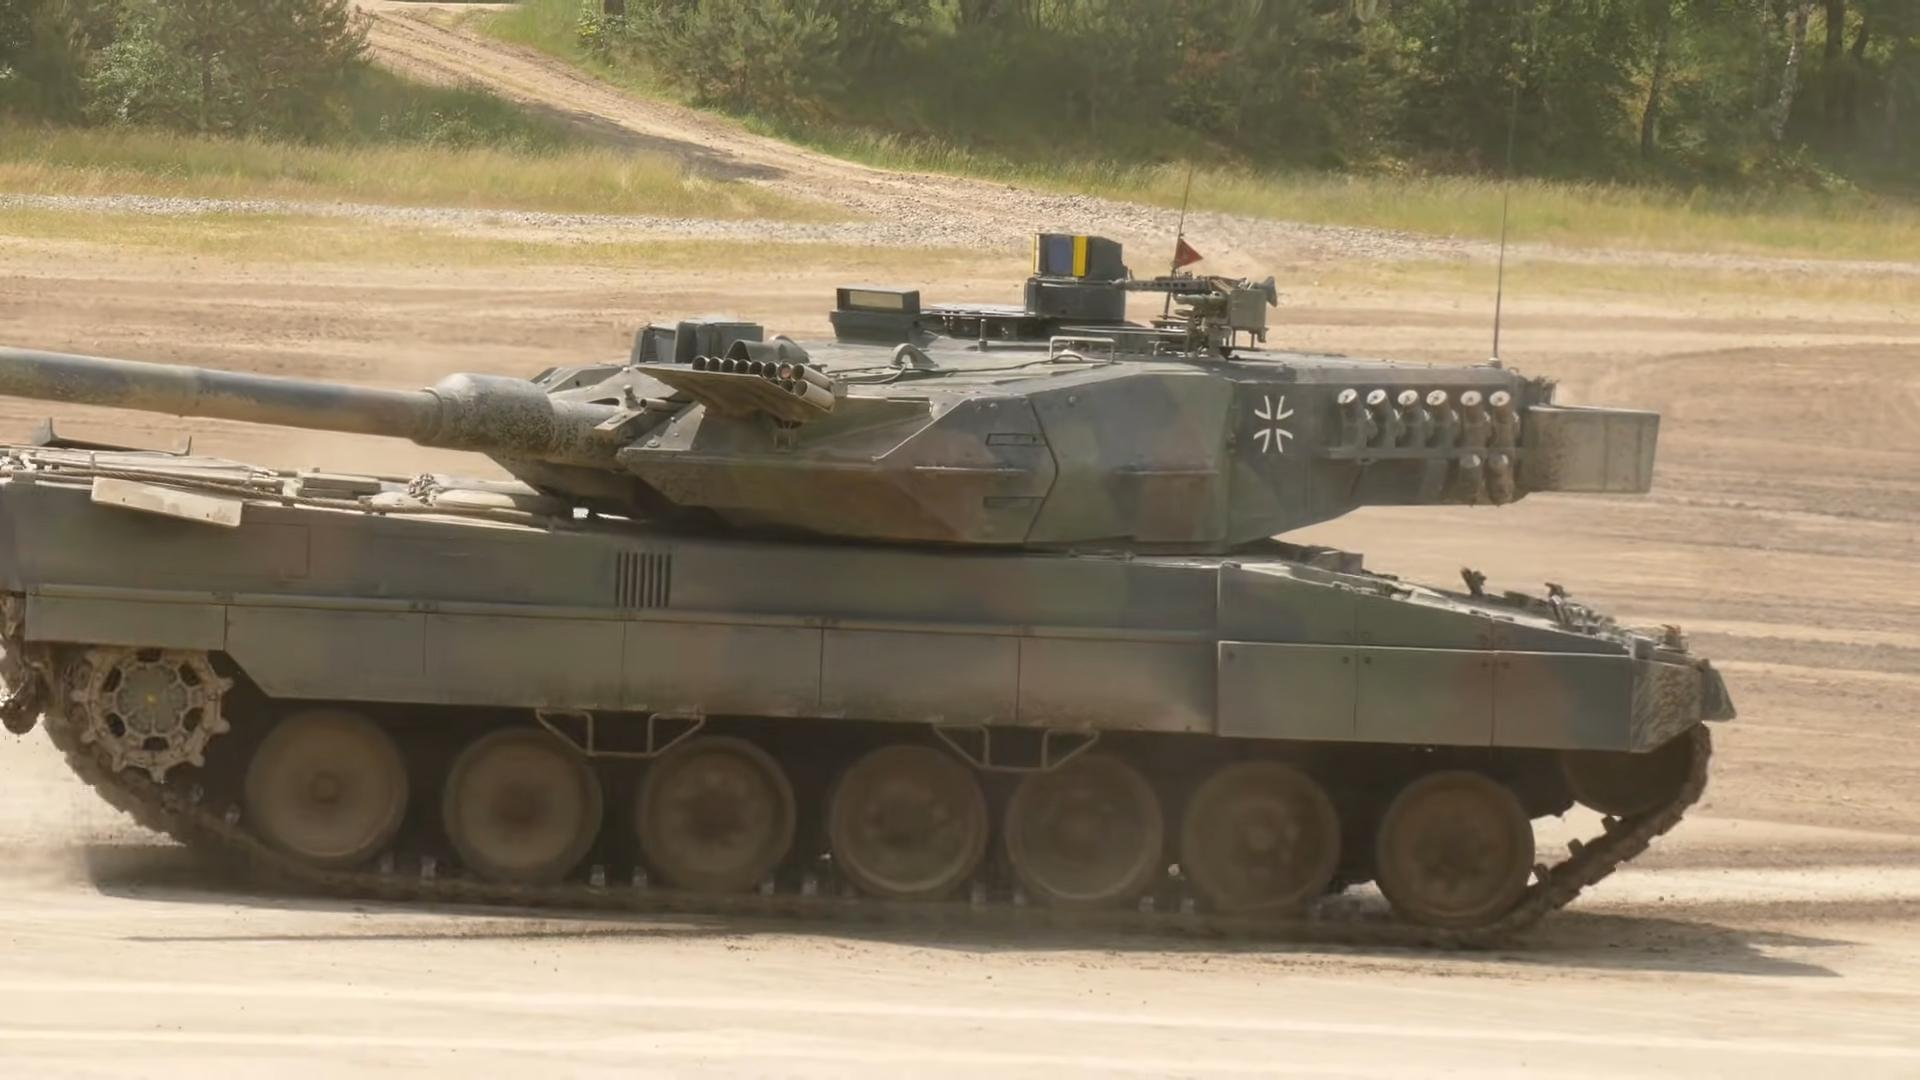tank: (1, 231, 1742, 952)
